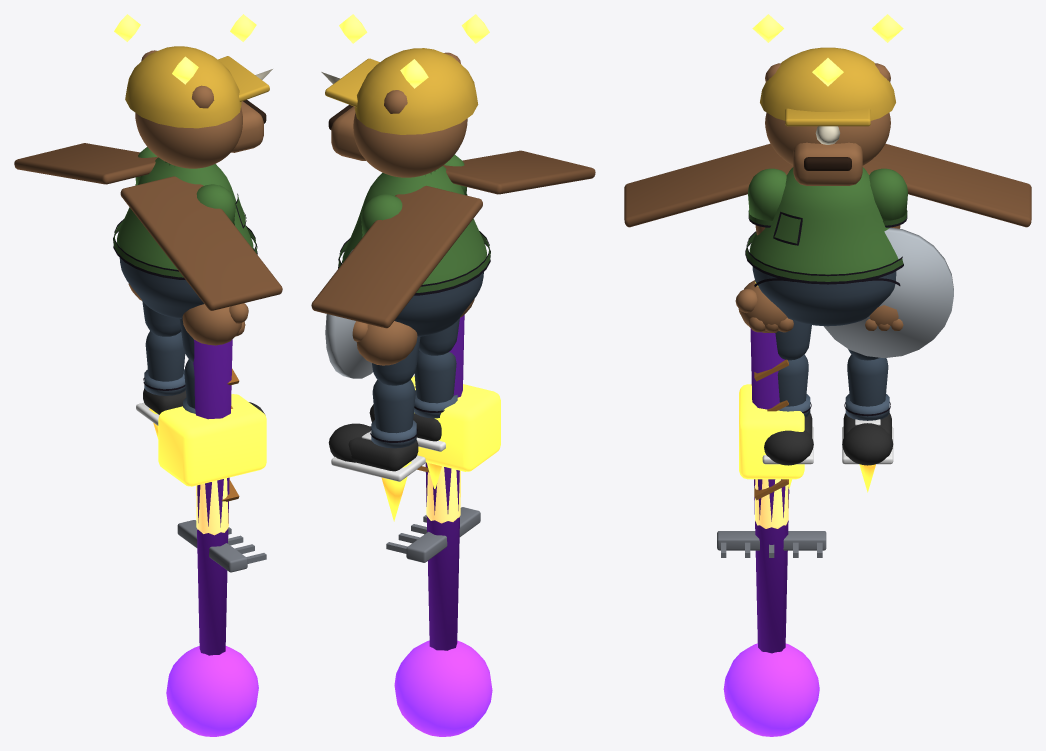
Rendered from capi.glb.
The picture shows the model from 3 angles, left to right: view 1: azimuth 30°, elevation 25°; view 2: azimuth 150°, elevation 25°; view 3: azimuth 270°, elevation 25°; orthographic projection. The views are drawn at different scales.
Visible parts, largest first — view 1: wing0, hammerHead, capDome, shadowArm, shadowFist, wing1, skull, torso, pelvis, palm, calf.001, baguette (+8 smaller); view 2: wing1, capDome, shadowFist, shadowArm, hammerHead, wing0, skull, torso, pelvis, prop:lid, palm.001, calf.001 (+19 smaller); view 3: torso, prop:lid, shadowFist, capDome, wing0, wing1, shadowArm, pelvis, hammerHead, skull, snout, calf.001 (+13 smaller).
Part boxes in pixels (x1,y1,x2,y2): wing0: (120,176,282,310); hammerHead: (158,394,266,486); capDome: (125,46,241,128); shadowArm: (193,339,232,655); shadowFist: (166,646,258,736); wing1: (14,143,158,184); skull: (135,107,242,168); torso: (117,157,253,269); pelvis: (119,258,203,318); palm: (182,304,241,345); calf.001: (145,331,185,381); baguette: (196,478,228,535); wing1: (311,185,482,328); capDome: (354,48,478,134); shadowFist: (394,640,492,736); shadowArm: (425,315,464,650); hammerHead: (411,376,500,471); wing0: (443,150,595,194); skull: (353,112,467,177); torso: (342,166,486,284); pelvis: (394,272,483,336); prop:lid: (325,249,372,378); palm.001: (356,321,417,365); calf.001: (372,379,415,433); torso: (749,167,898,274); prop:lid: (823,227,953,358); shadowFist: (723,643,819,736); capDome: (760,47,895,120); wing0: (624,143,793,227); wing1: (862,143,1031,227); shadowArm: (750,328,789,653); pelvis: (752,267,896,326); hammerHead: (739,384,804,479); skull: (765,112,890,165); snout: (793,142,862,185); calf.001: (847,354,888,406).
Size of the model in its own units: 0.8801 by 3.56 by 1.86.
